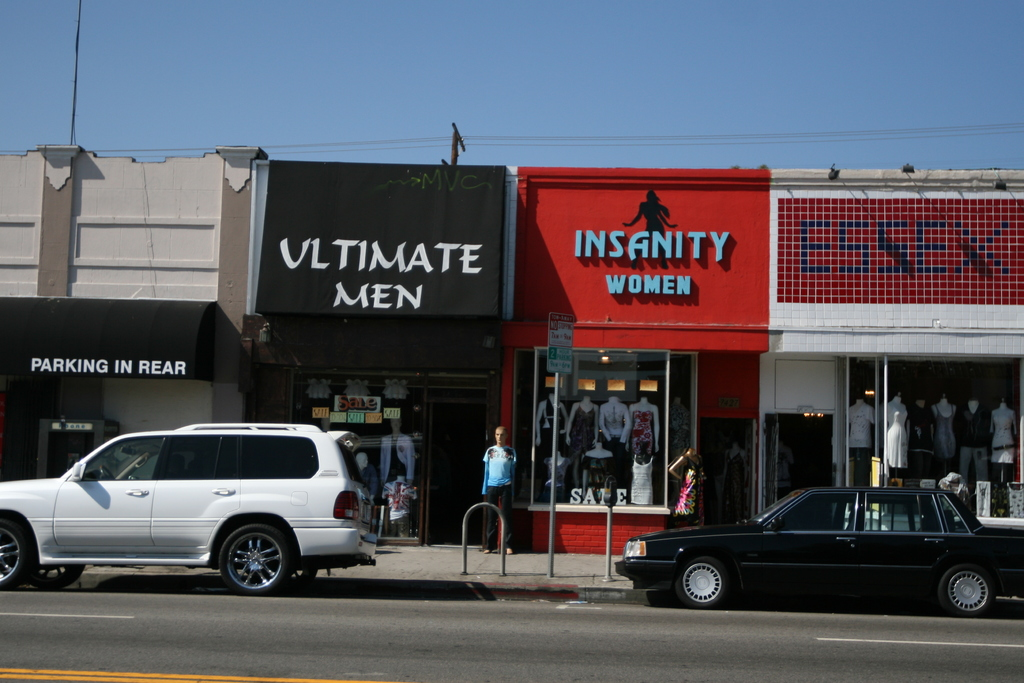Car: (0, 422, 376, 595), (615, 484, 1023, 617)
